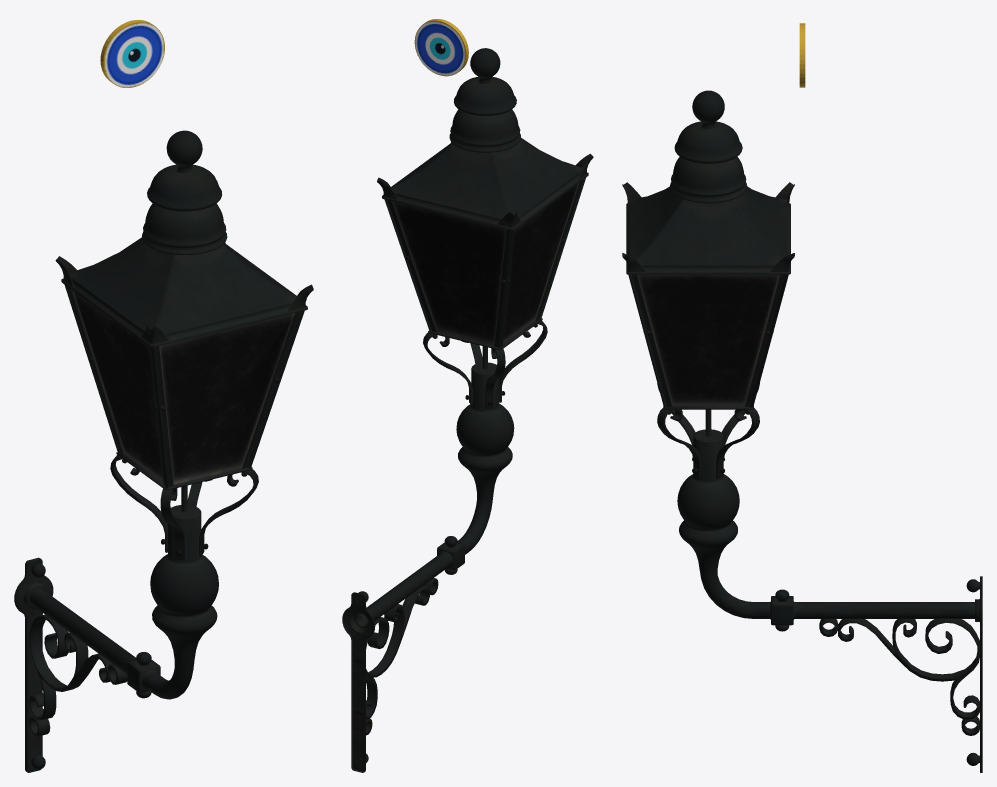
The model's file is nyb_dolly_lantern.glb.
3 renders of one model, left to right at view 1: azimuth 30°, elevation 25°; view 2: azimuth 150°, elevation 25°; view 3: azimuth 270°, elevation 25°, orthographic. The views are drawn at different scales.
Visible parts, largest first — view 1: street_lamp_02, add_nazar_die.png, Cylinder; view 2: street_lamp_02, add_nazar_die.png; view 3: street_lamp_02.
Boxes of the visible parts, <box> form: street_lamp_02: <box>14,130,313,772</box>; add_nazar_die.png: <box>105,23,163,87</box>; Cylinder: <box>100,20,164,87</box>; street_lamp_02: <box>342,48,593,772</box>; add_nazar_die.png: <box>415,21,464,75</box>; street_lamp_02: <box>622,90,982,772</box>.
Size of the model in its own units: 0.3867 by 1.84 by 0.8069.
5 materials, 4 textured.
